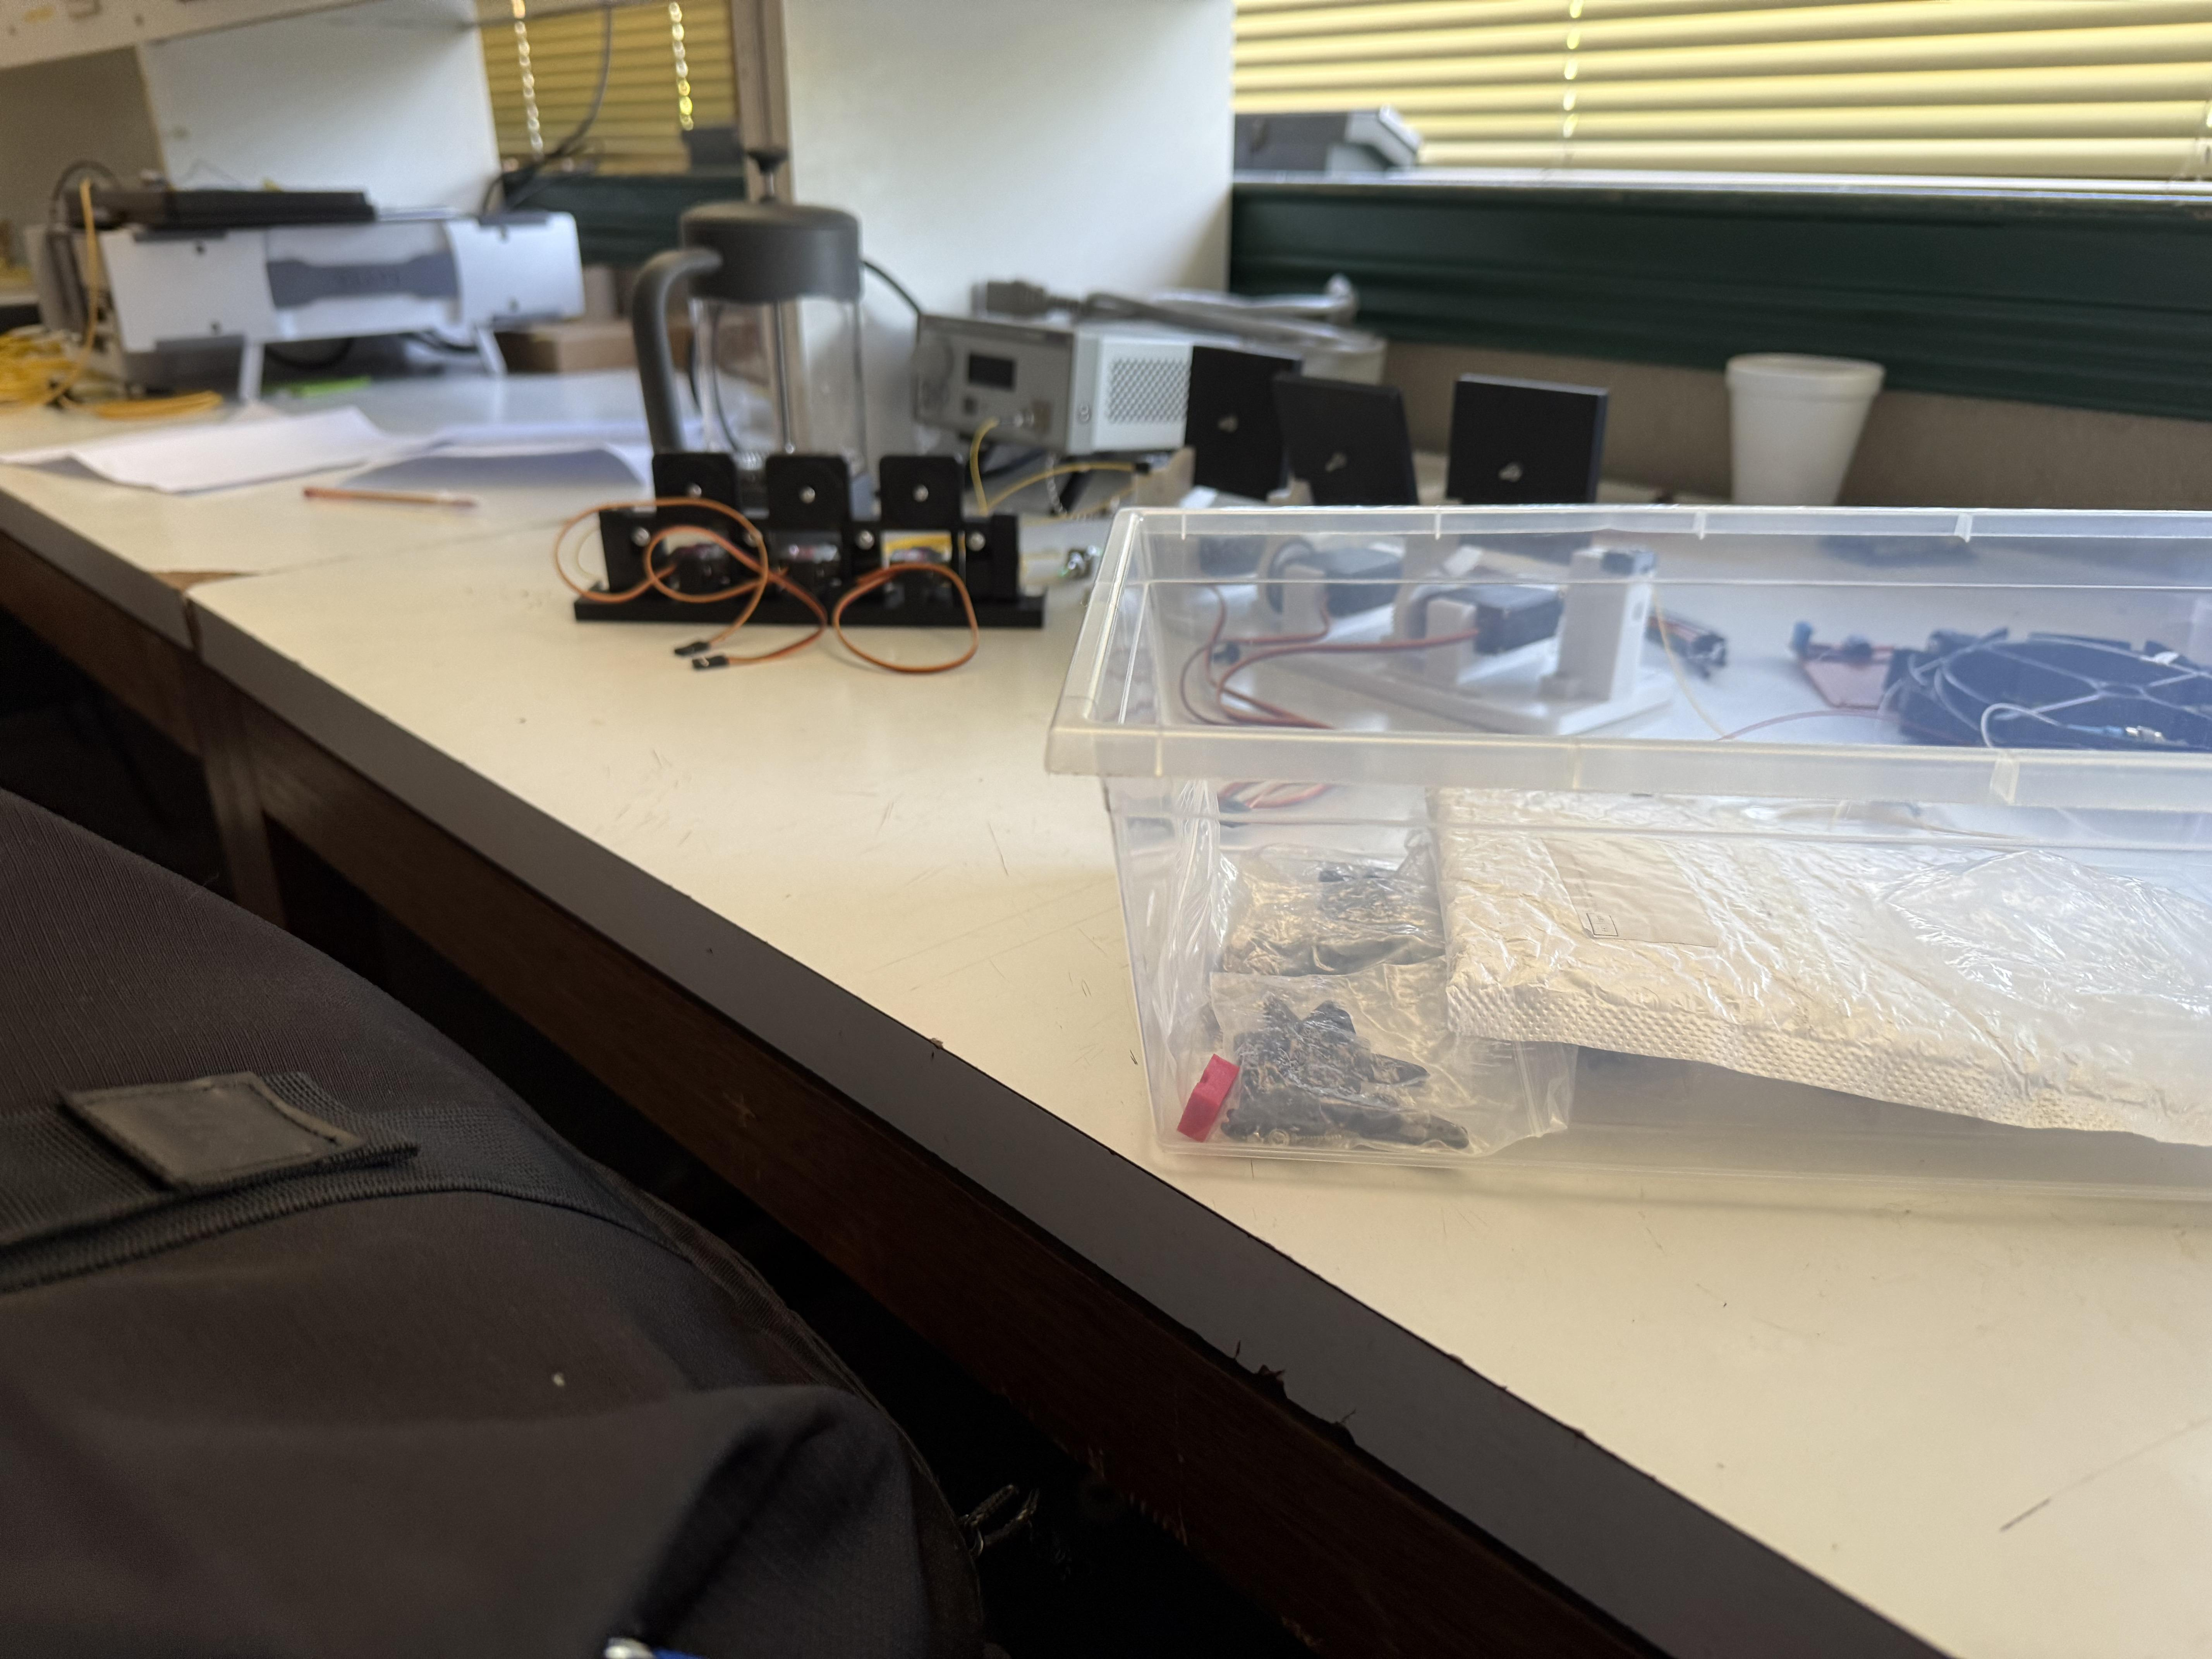laser: (899, 263, 1386, 538)
paddle_polarization_controller: (1104, 328, 1740, 779), (564, 434, 1097, 664)
